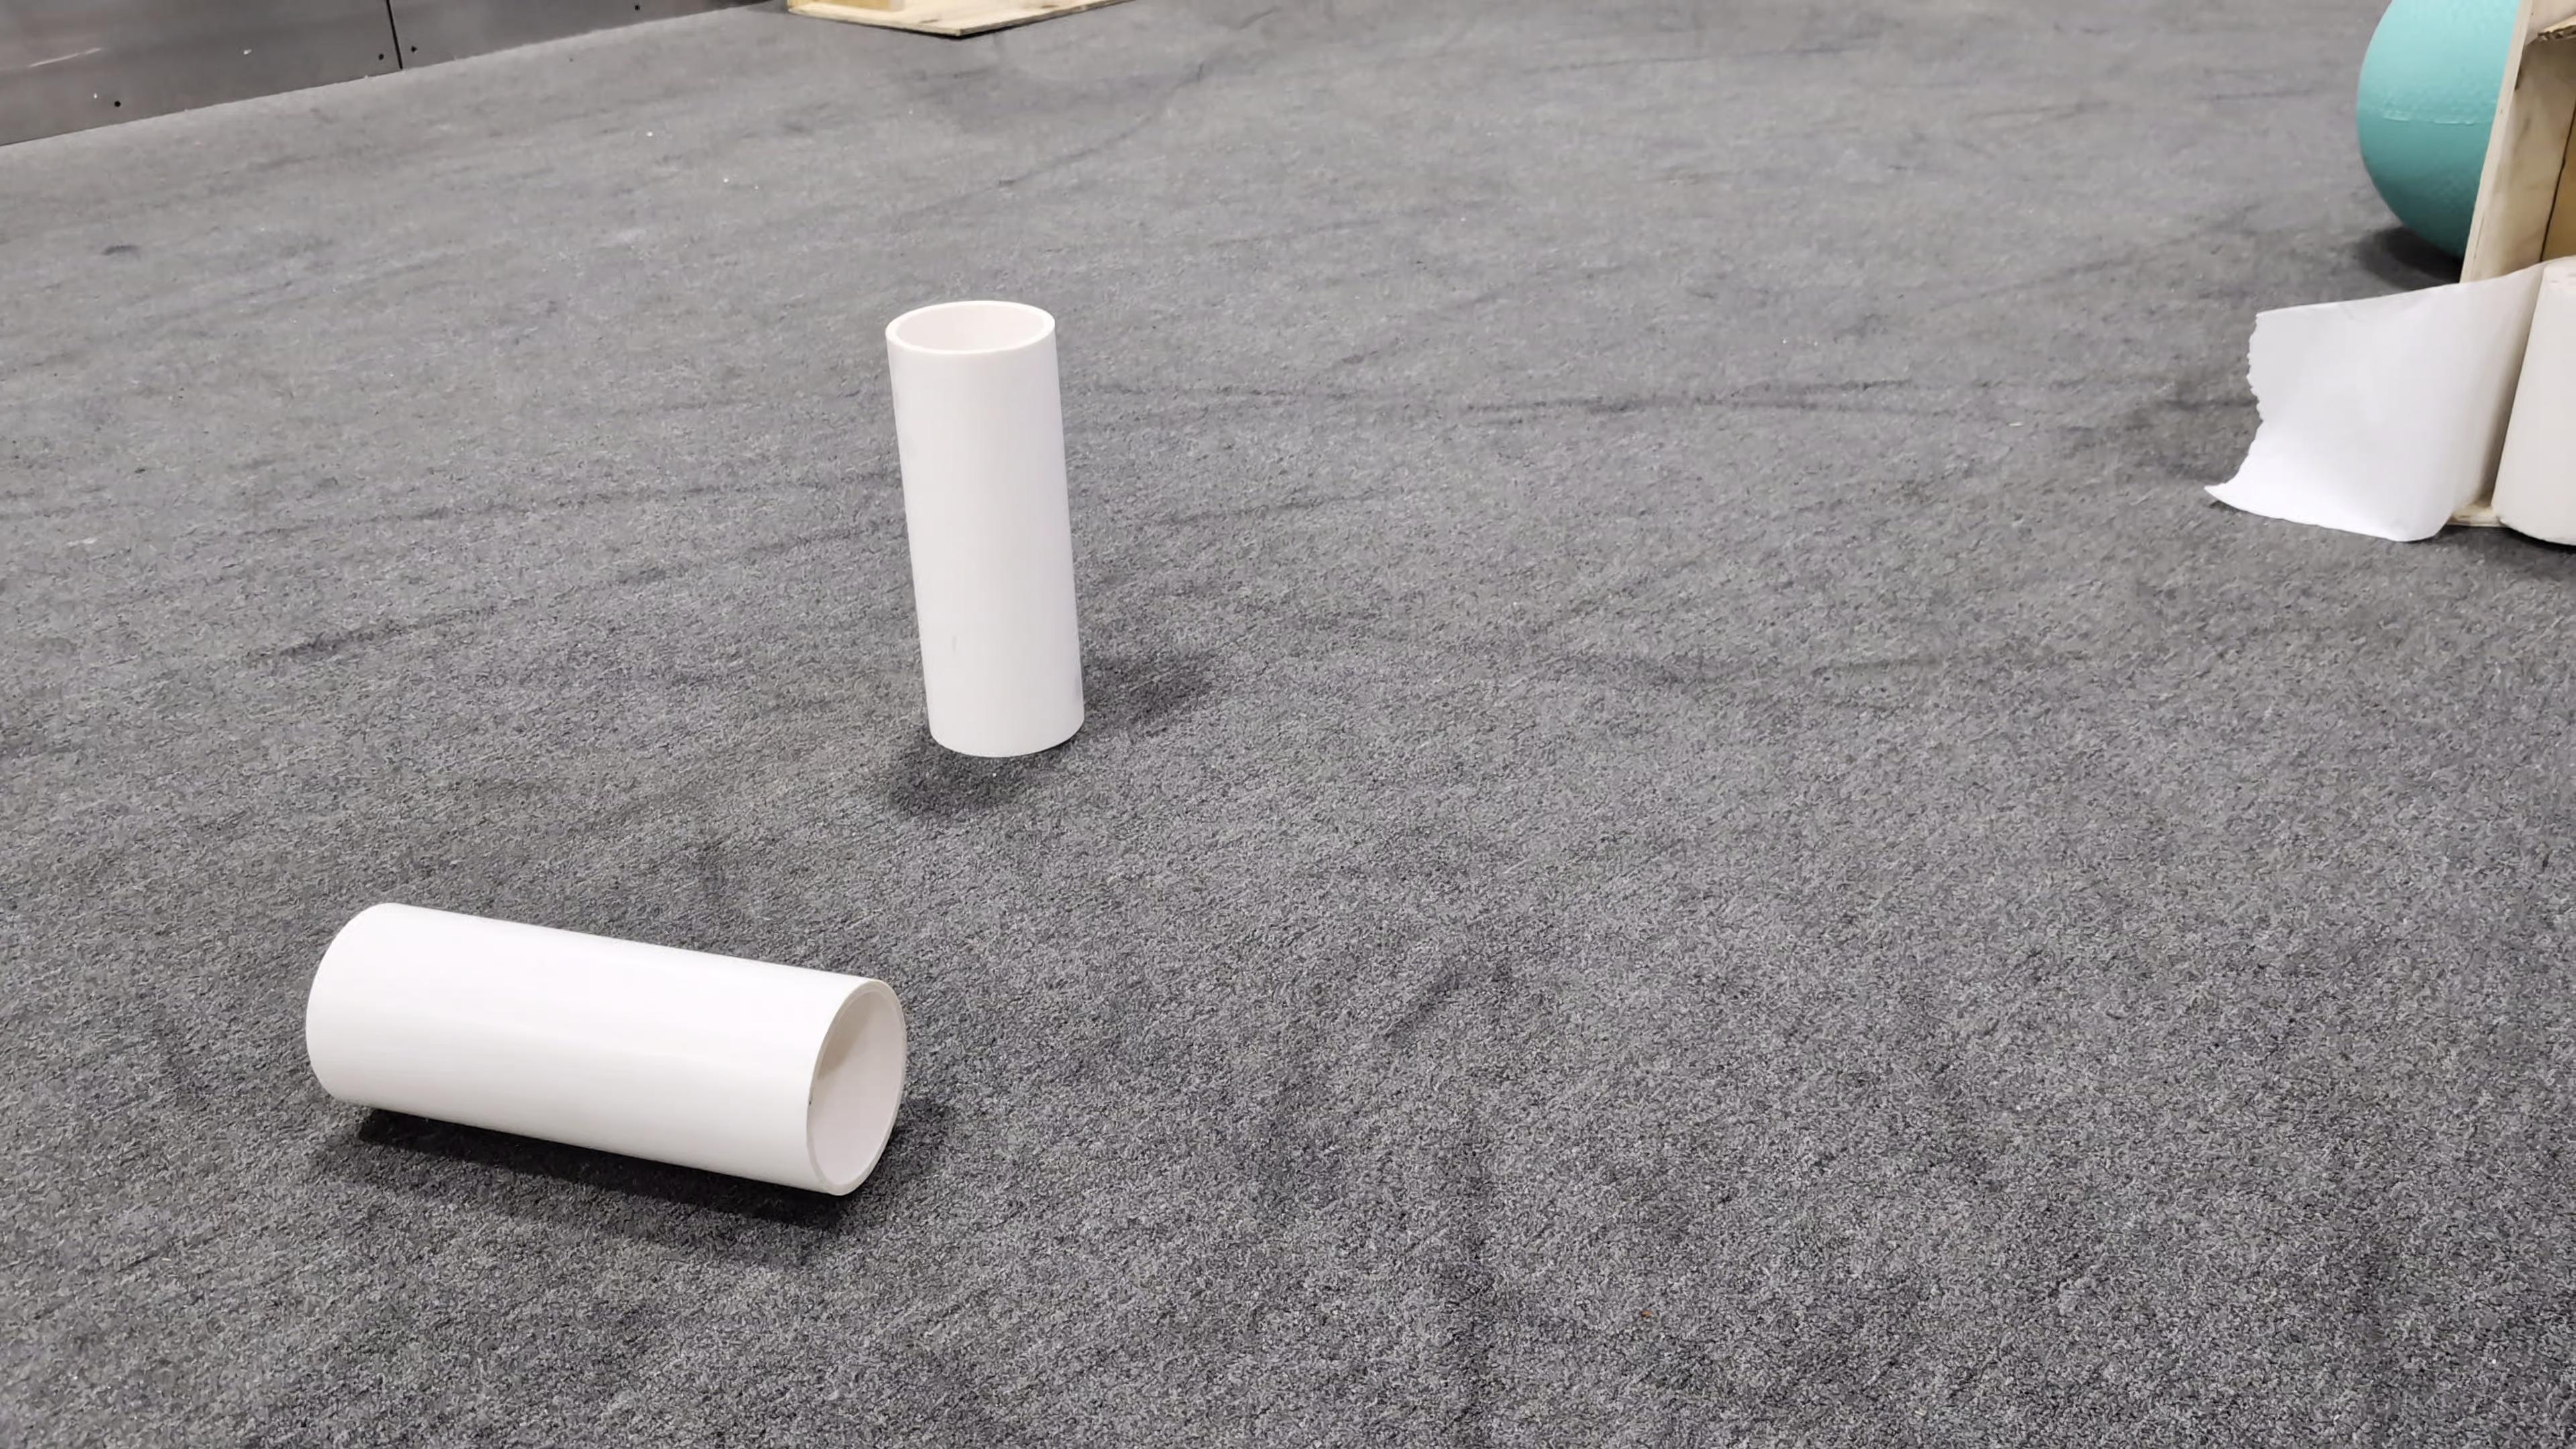coral: (303, 897, 911, 1200), (879, 297, 1088, 757)
